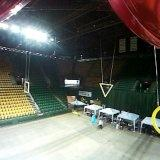Yellow_Circle_GShape: (151, 105, 160, 134)
Yellow_Square_GShape: (23, 81, 30, 95)
Yellow_Triangle_Gshape: (99, 83, 114, 98)
